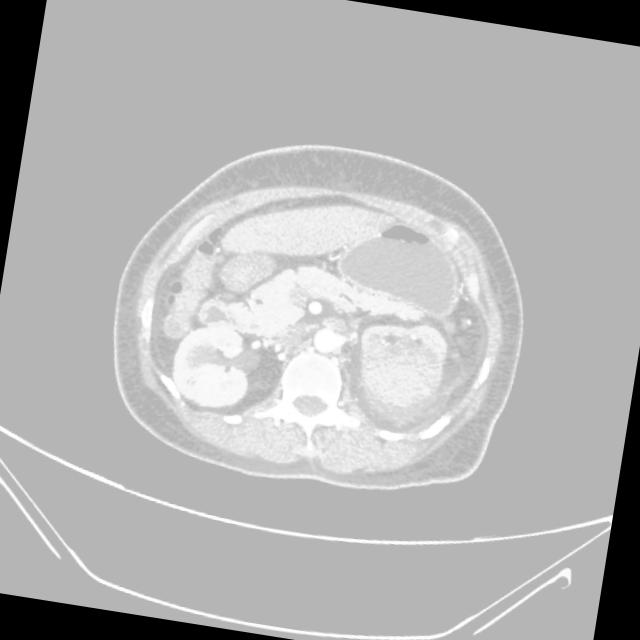TUMOR: (92, 143, 549, 447)
